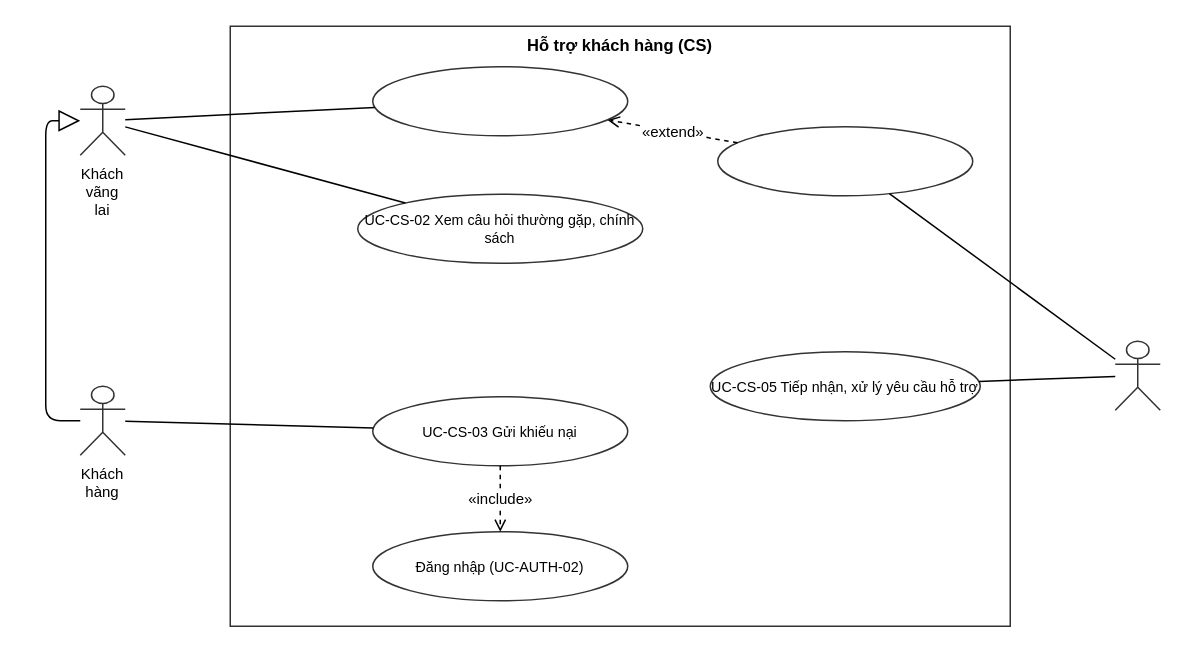
Image size: 1187x653. Some labels were removed from this diagram. Here are the shapes that lost their labels. From the top down, the box of each, then its label:
(371, 65, 628, 136): UC-CS-01 Chat hỗ trợ nhanh
(716, 125, 973, 196): UC-CS-04 Tóm tắt hội thoại
(1114, 340, 1160, 410): CSKH
